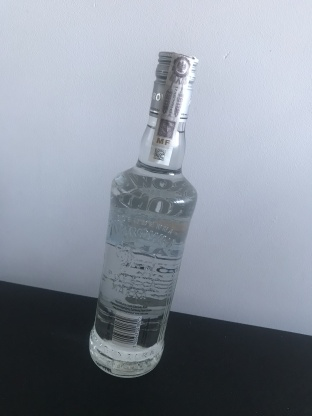nakretka: (147, 47, 201, 125)
